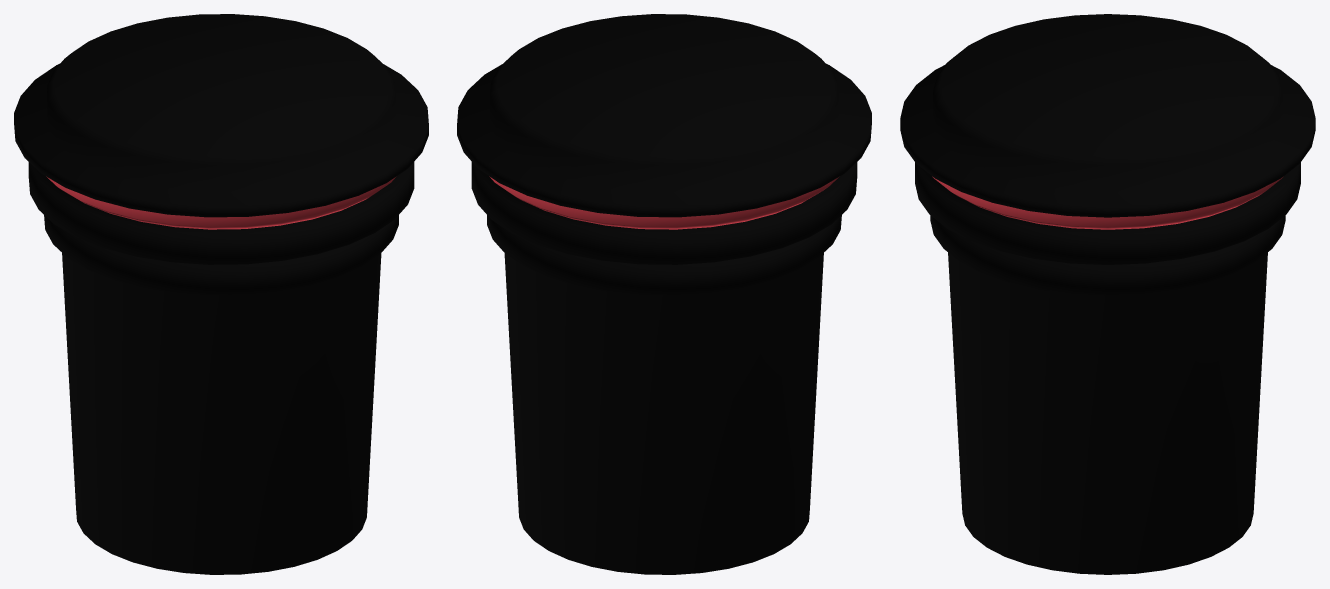
Rendered from RyskinimoIndasVisas.glb.
3 views of the same model, side by side, from view 1: azimuth 30°, elevation 25°; view 2: azimuth 150°, elevation 25°; view 3: azimuth 270°, elevation 25° (orthographic).
Visible parts, largest first — view 1: VisasKanistras; view 2: VisasKanistras; view 3: VisasKanistras.
Boxes of the visible parts, left/top/right/bottom form: VisasKanistras: left=14, top=14, right=428, bottom=574; VisasKanistras: left=457, top=14, right=871, bottom=574; VisasKanistras: left=900, top=14, right=1315, bottom=574.
Size of the model in its own units: 2.57 by 2.92 by 2.57.
